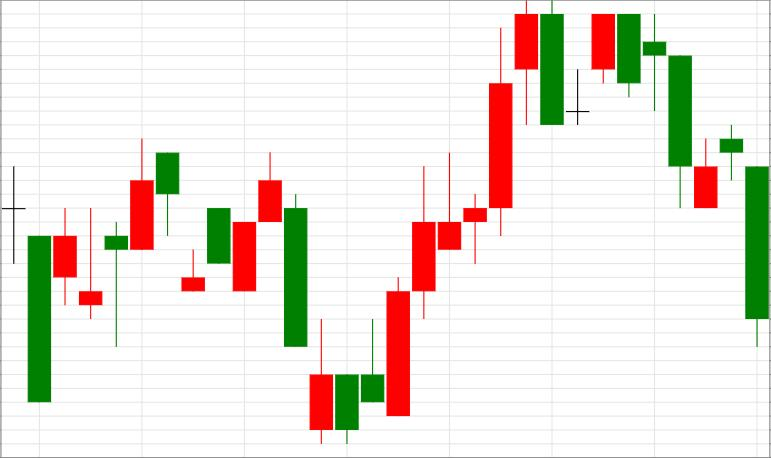bearish_engulfing_fall: (387, 0, 564, 415)
